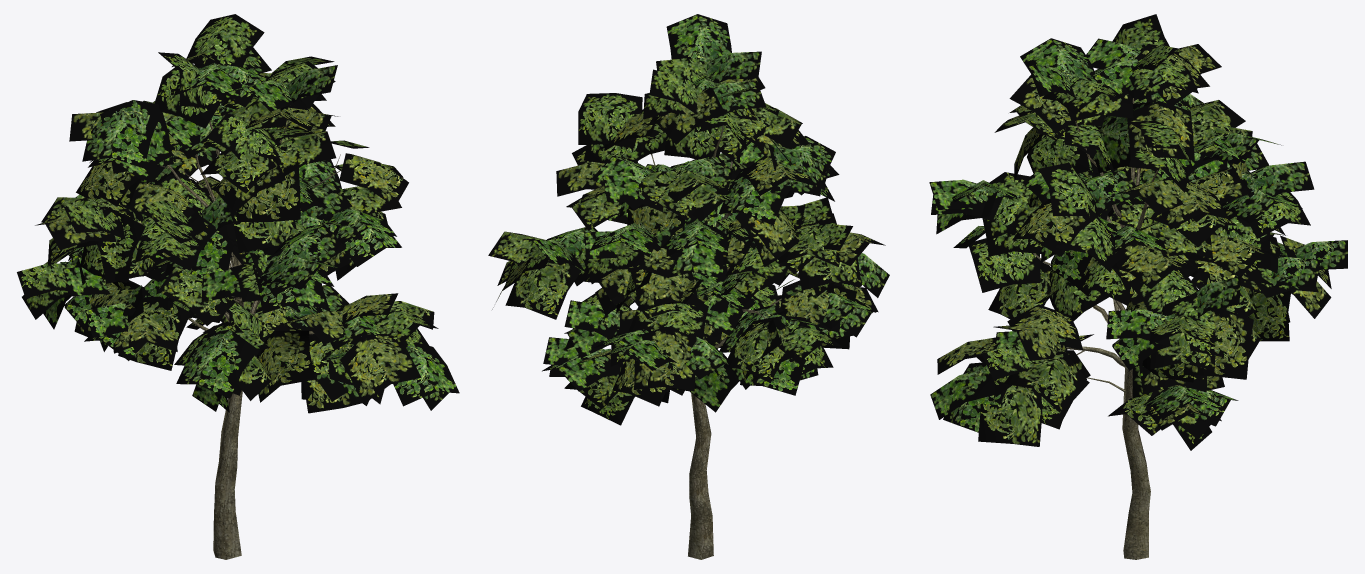
Rendered from tree1.gltf.
3 views of the same model, side by side, from view 1: azimuth 30°, elevation 25°; view 2: azimuth 150°, elevation 25°; view 3: azimuth 270°, elevation 25° (orthographic). The views are drawn at different scales.
Parts seen in each view (by area): view 1: polySurface1041, polySurface101; view 2: polySurface1041, polySurface101; view 3: polySurface1041, polySurface101.
Boxes of the visible parts, bbox=[...] form: polySurface1041: bbox=[17, 14, 459, 413]; polySurface101: bbox=[79, 108, 341, 559]; polySurface1041: bbox=[488, 14, 889, 425]; polySurface101: bbox=[576, 125, 781, 559]; polySurface1041: bbox=[929, 14, 1347, 450]; polySurface101: bbox=[1033, 98, 1158, 559].
Bounding box in the file's own units: 15.24 × 20.59 × 15.51.
Materials: 2 (2 with a texture image).
